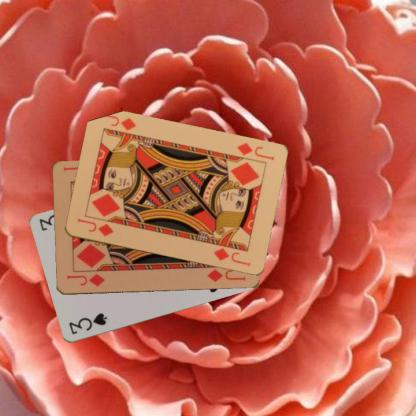3s: (66, 310, 108, 336)
Jd: (234, 140, 275, 162), (74, 216, 114, 238), (64, 272, 106, 288)
